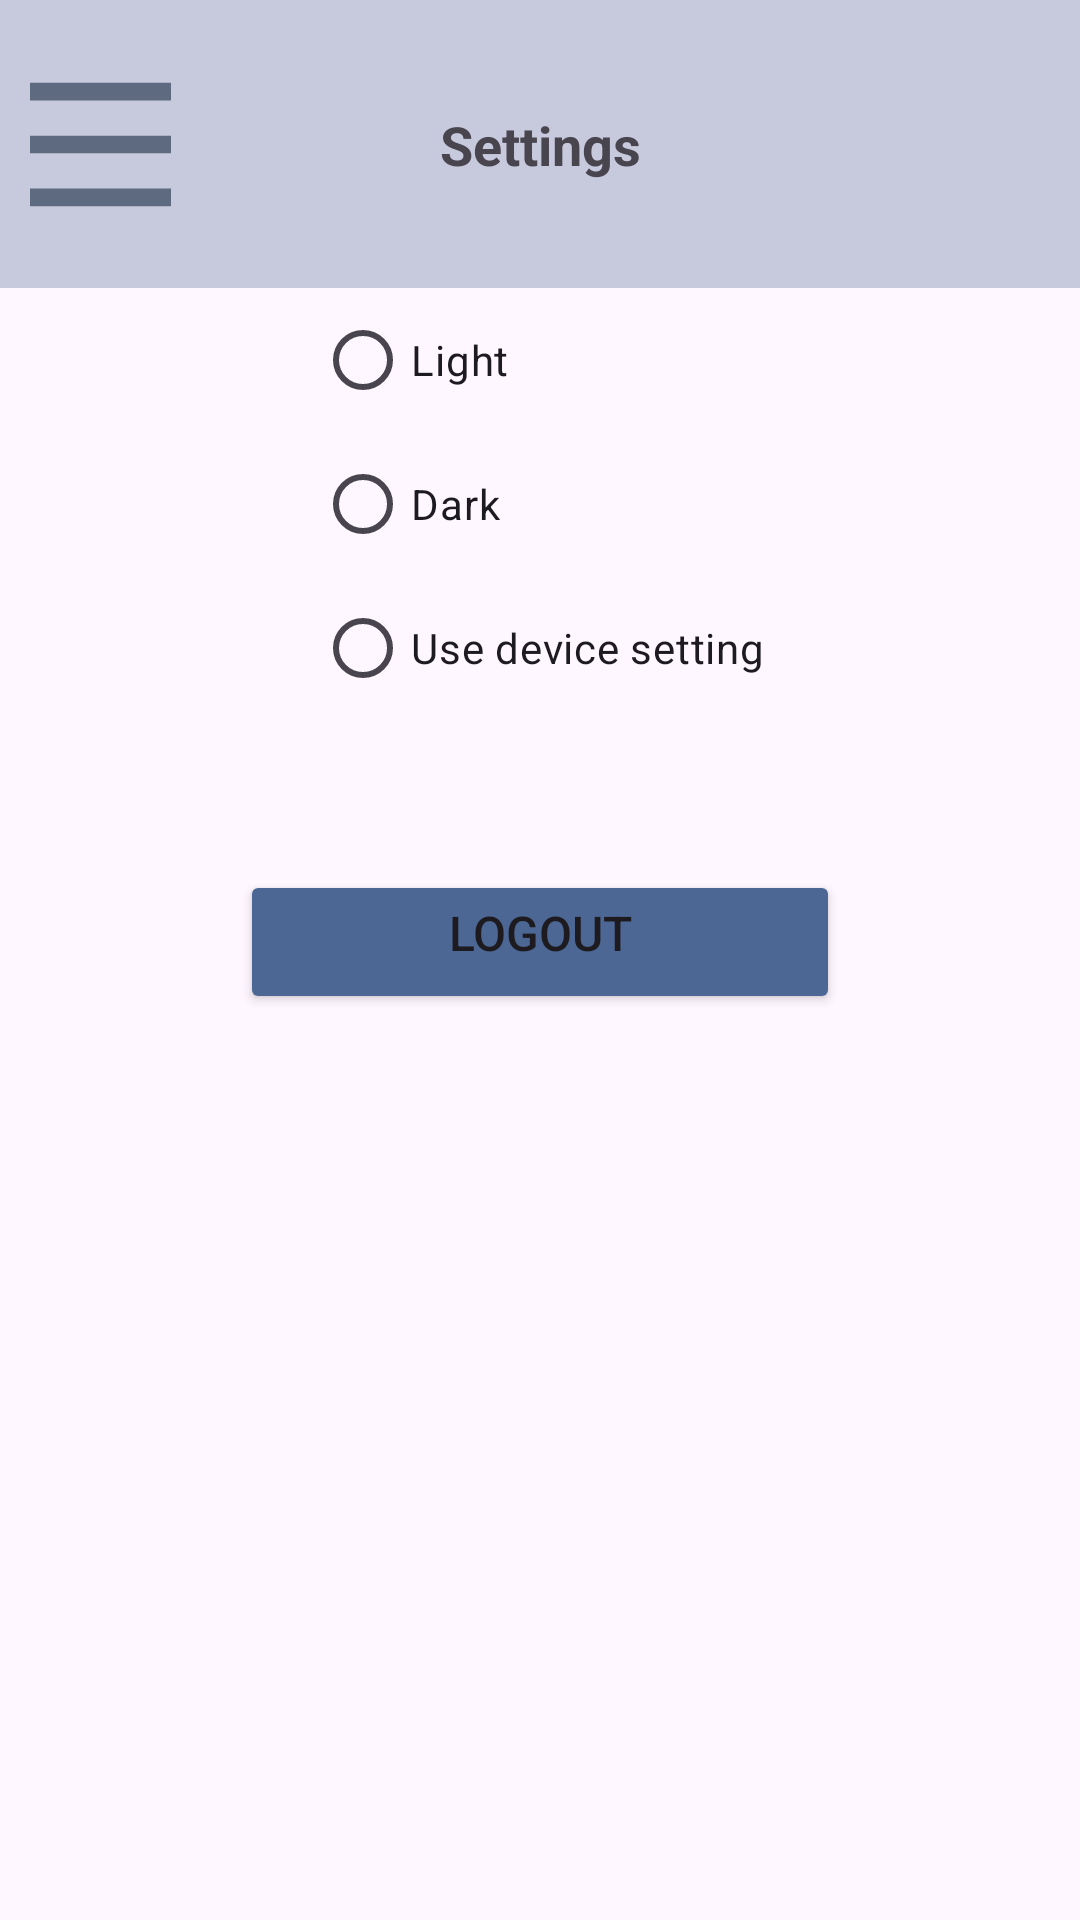

Screen size 1080×1920. Icon name, then its center in pixels as point (x, y):
menu: point (100, 144)
